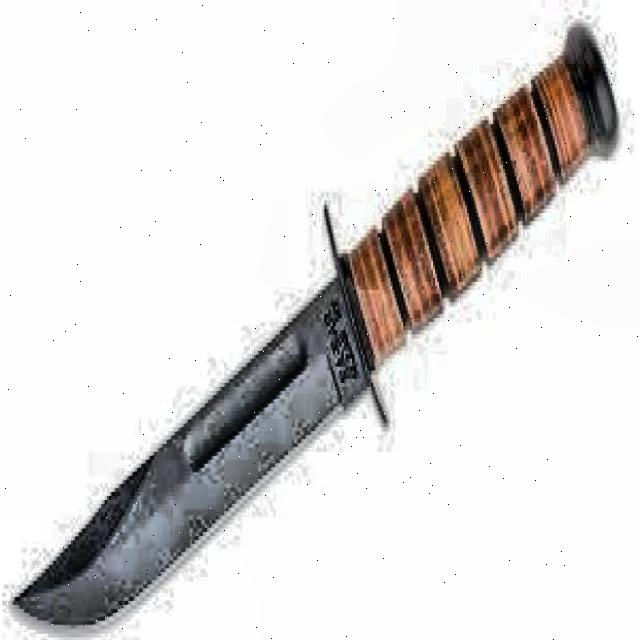knife: (6, 18, 623, 640)
